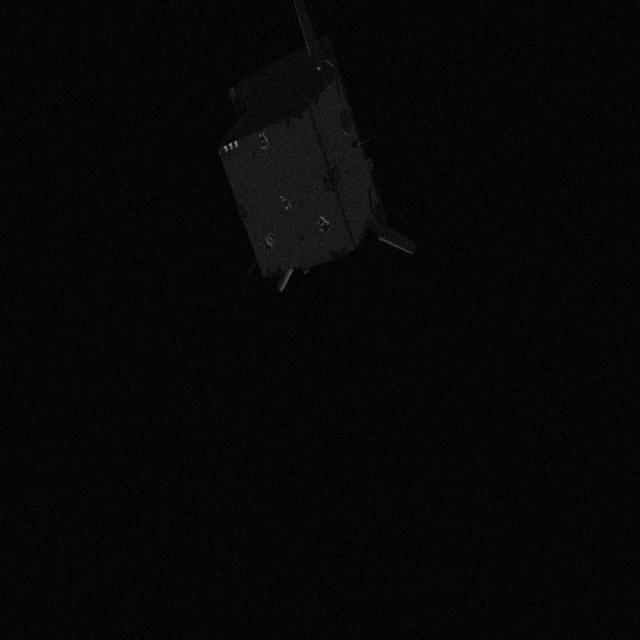medium_debris: (214, 2, 434, 298)
